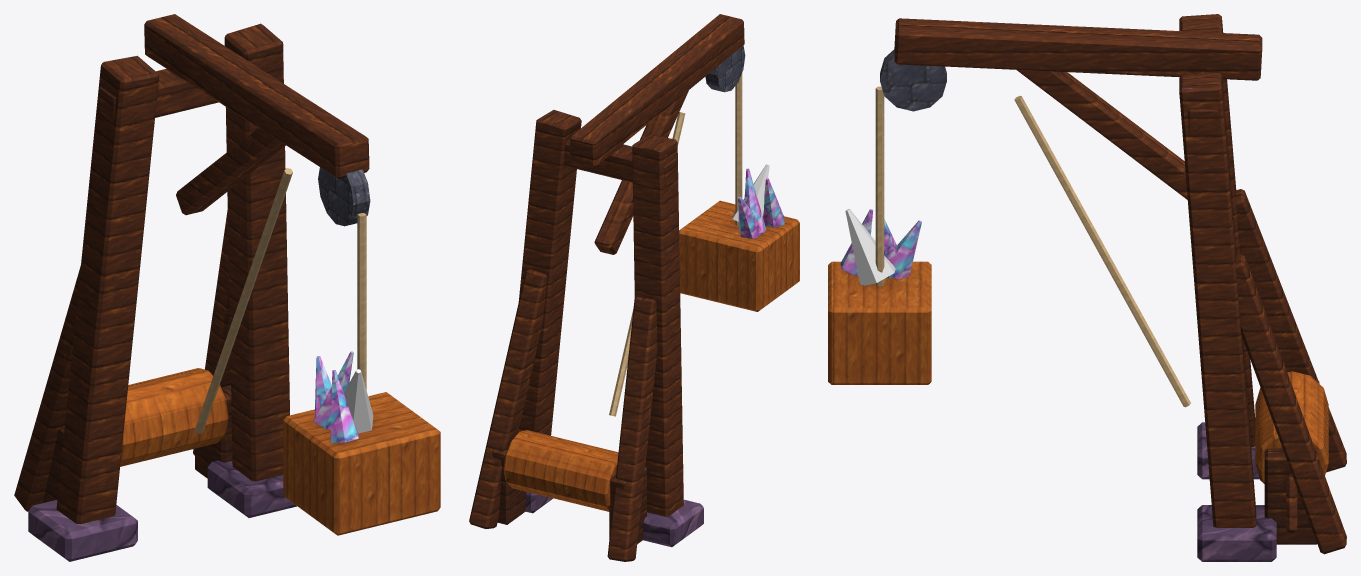
Rendered from mapkit_hoist_crystal.fbx.
3 renders of one model, left to right at view 1: azimuth 30°, elevation 25°; view 2: azimuth 150°, elevation 25°; view 3: azimuth 270°, elevation 25°, orthographic. The views are drawn at different scales.
Visible parts, largest first — view 1: Body, c_115_230_255; view 2: Body, c_115_230_255; view 3: Body, c_115_230_255.
Boxes of the visible parts, left/top/right/bottom form: Body: left=14, top=14, right=440, bottom=561; c_115_230_255: left=344, top=369, right=373, bottom=433; Body: left=469, top=14, right=799, bottom=561; c_115_230_255: left=732, top=164, right=769, bottom=221; Body: left=828, top=14, right=1346, bottom=561; c_115_230_255: left=845, top=209, right=895, bottom=285.
Bounding box in the file's own units: 450 × 876 × 850.
1 material, 1 textured.
